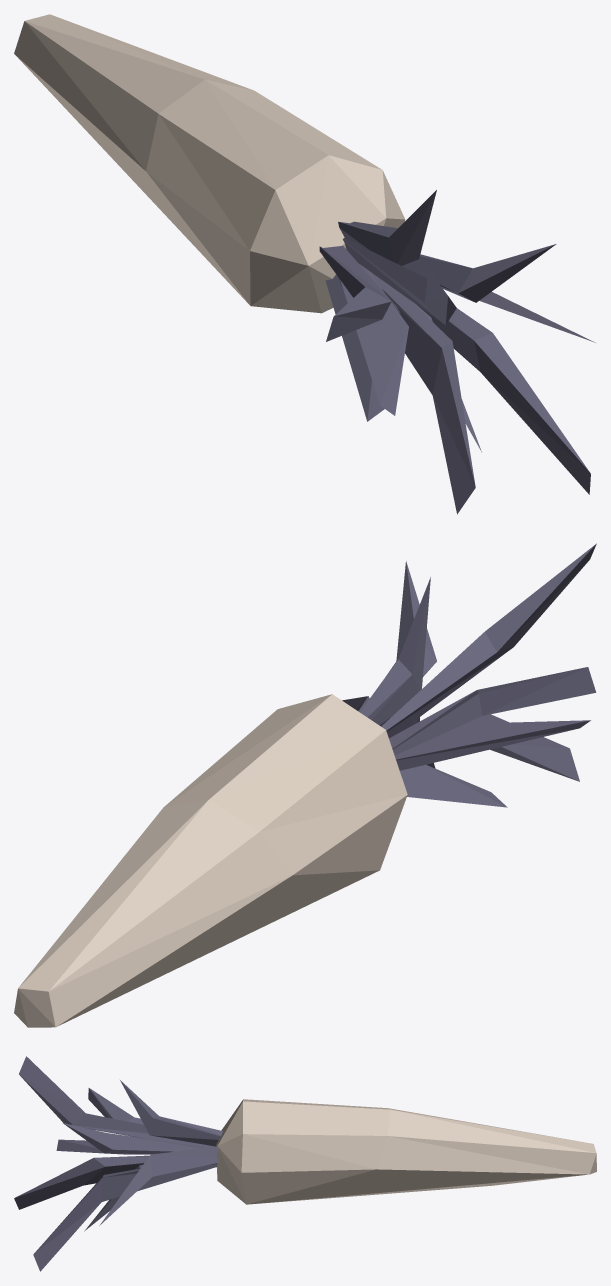
File: SFM_FVC_Carrot.fbx
3 renders of one model, top to bottom at view 1: azimuth 30°, elevation 25°; view 2: azimuth 150°, elevation 25°; view 3: azimuth 270°, elevation 25°, orthographic. The views are drawn at different scales.
Parts seen in each view (by area): view 1: SFM_FVC_Carrot; view 2: SFM_FVC_Carrot; view 3: SFM_FVC_Carrot.
Part boxes in pixels (box(x1,y1,x2,y2)): SFM_FVC_Carrot: box(14, 14, 595, 514); SFM_FVC_Carrot: box(14, 543, 596, 1027); SFM_FVC_Carrot: box(14, 1056, 596, 1271).
Size of the model in its own units: 8.37 by 25.16 by 7.96.
